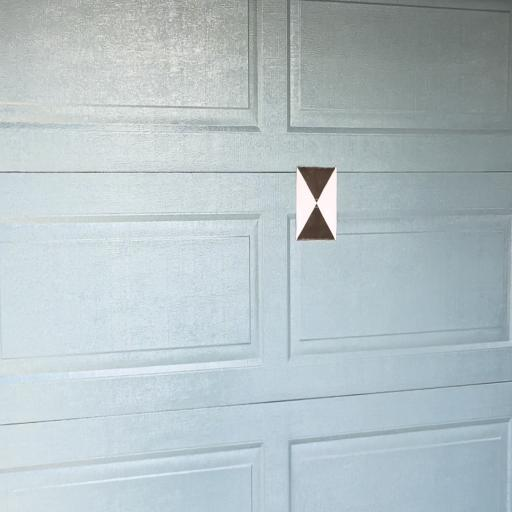target: (296, 166, 336, 241)
